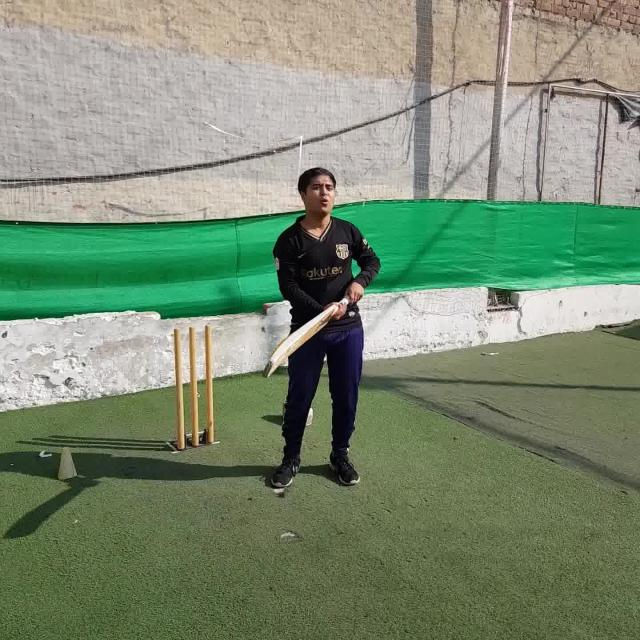bat: (263, 290, 358, 377)
